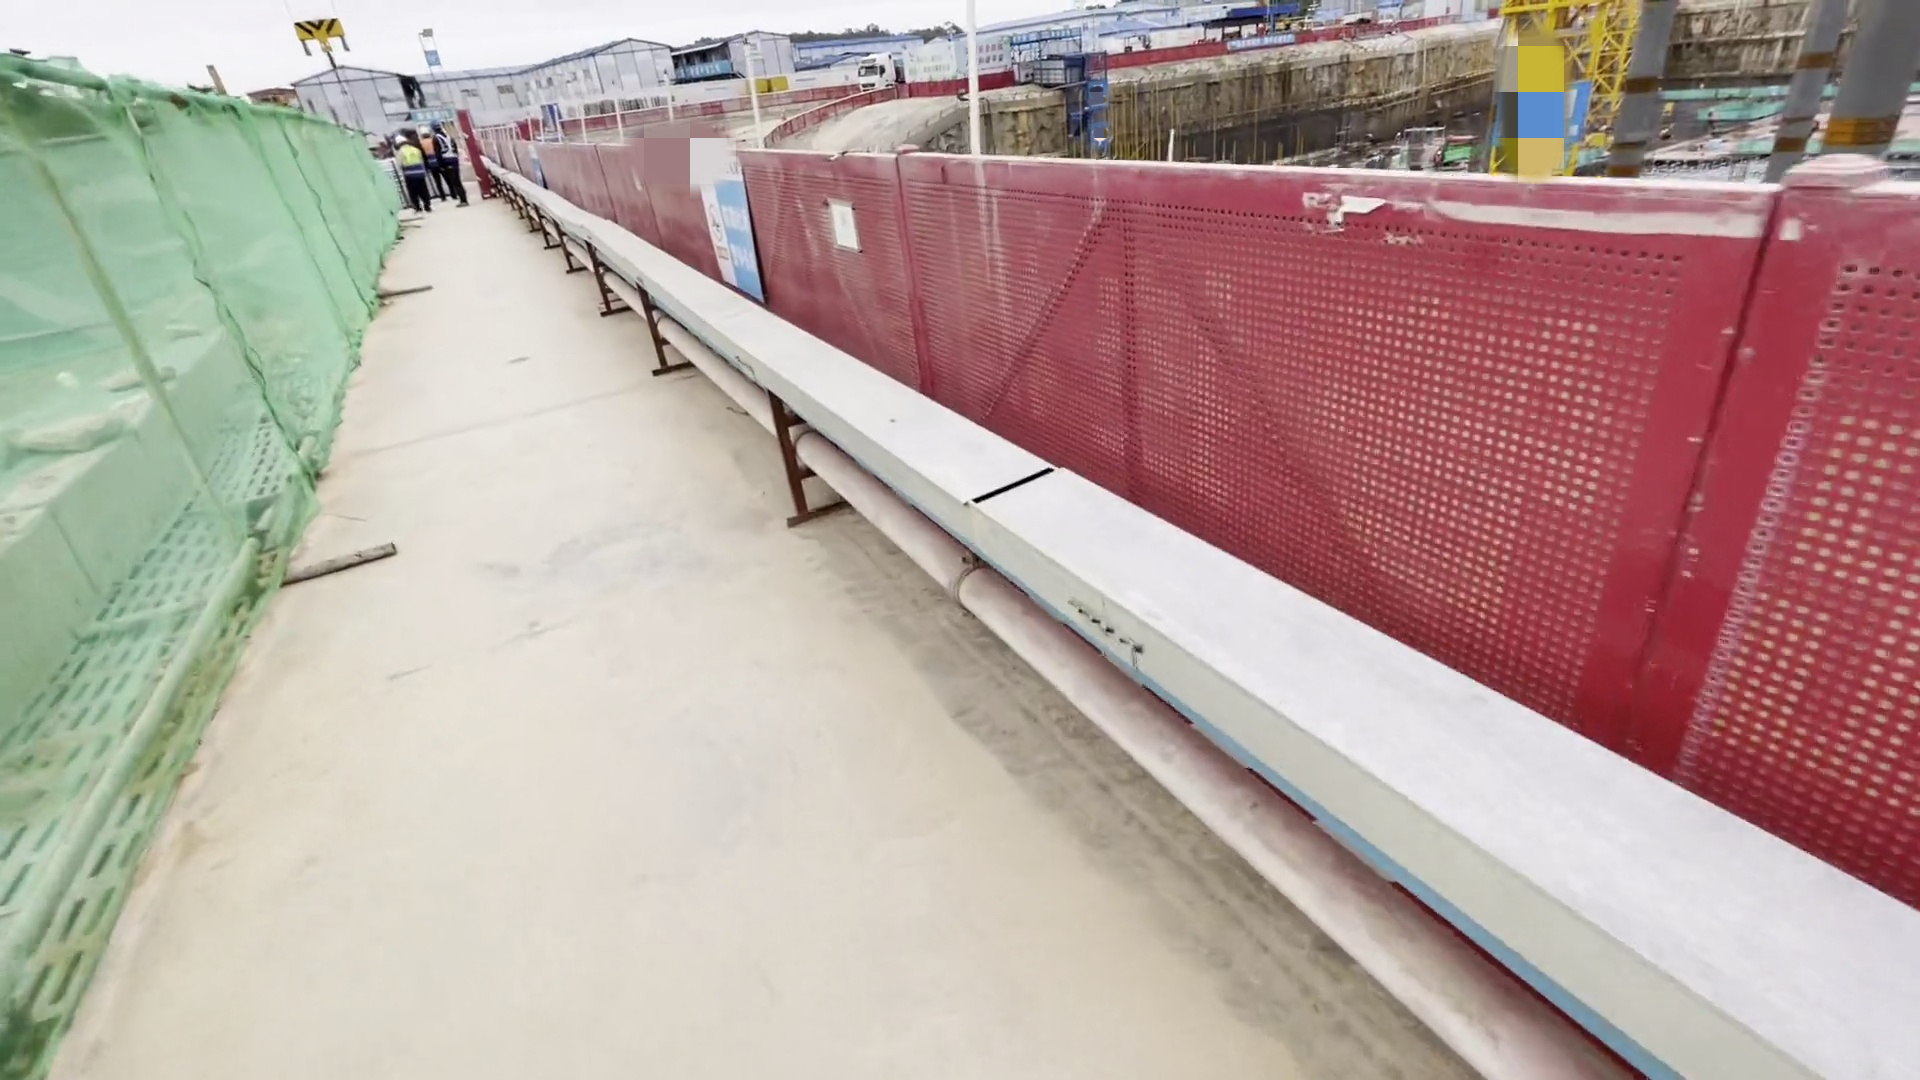fence: (436, 118, 1868, 822)
helmet: (393, 132, 423, 151), (415, 122, 433, 136)
hook: (297, 13, 369, 93)
person: (432, 124, 489, 204), (382, 127, 434, 213), (418, 114, 447, 203)
slogan: (679, 127, 773, 296)
vest: (398, 142, 431, 173), (421, 136, 443, 172), (439, 139, 462, 165)
